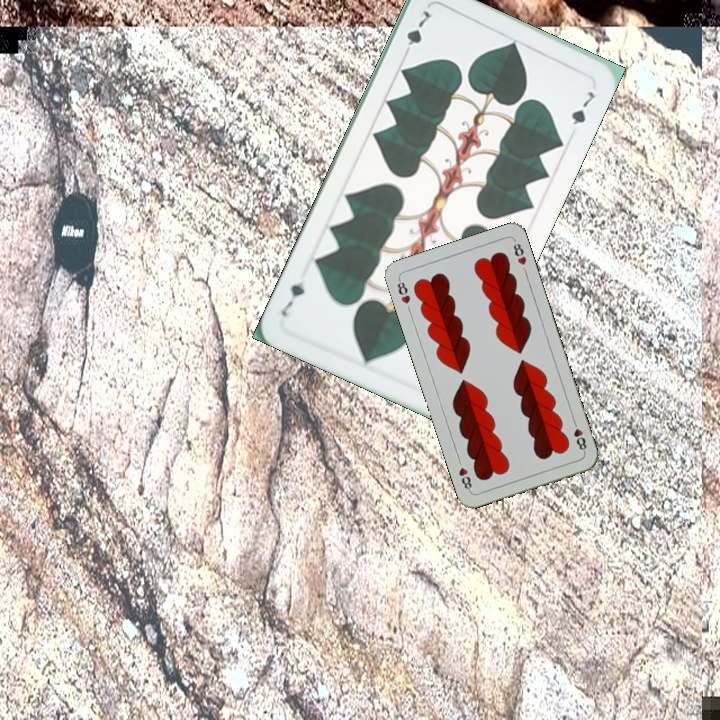G7: (399, 6, 433, 60)
H8: (569, 416, 589, 455), (393, 275, 413, 306)
